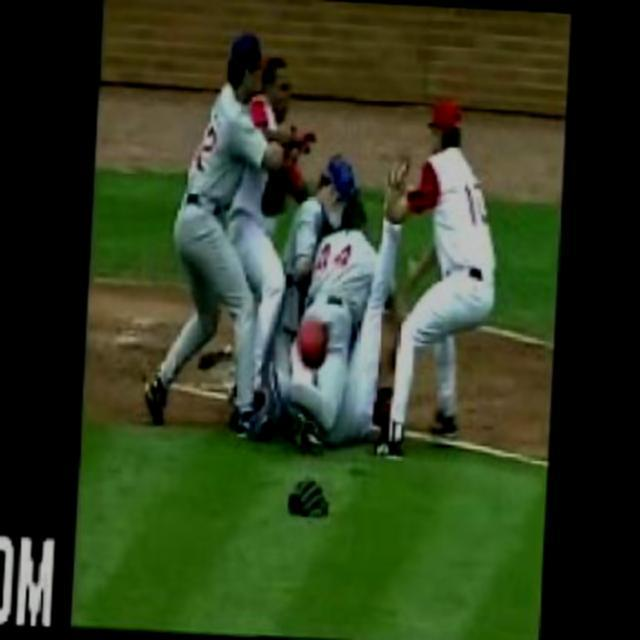fight: (272, 155, 405, 451)
